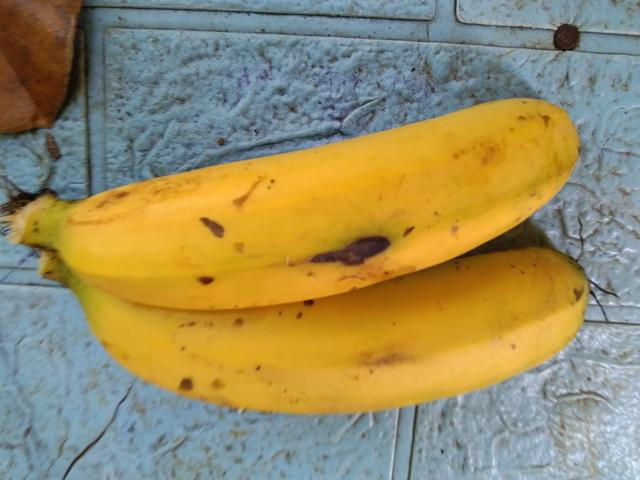freshripe: (79, 276, 603, 450)
ripe: (57, 73, 606, 330)
